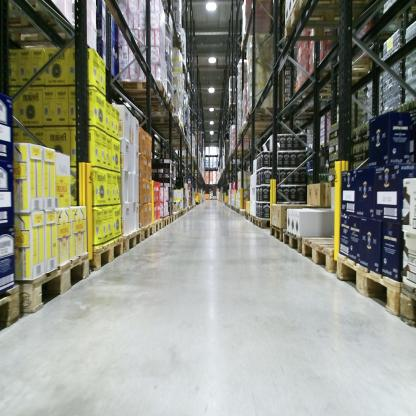pallet: (17, 250, 90, 315), (337, 251, 400, 318), (5, 1, 83, 52), (283, 2, 384, 41), (306, 59, 372, 86), (301, 235, 340, 274), (115, 78, 169, 104), (89, 236, 124, 276), (292, 85, 356, 101), (2, 284, 22, 331), (399, 277, 416, 329), (130, 96, 176, 111), (282, 229, 311, 252), (120, 228, 142, 252), (246, 107, 278, 121), (239, 122, 278, 133), (146, 116, 181, 128), (152, 124, 184, 135), (167, 31, 182, 54), (236, 130, 267, 140), (138, 223, 154, 242), (270, 223, 283, 244), (230, 148, 255, 158), (255, 217, 273, 230), (152, 218, 163, 234), (182, 79, 192, 92), (160, 215, 169, 228), (180, 58, 188, 72), (249, 214, 255, 226), (172, 211, 178, 222), (245, 210, 250, 223), (239, 209, 247, 217), (168, 214, 174, 224), (175, 210, 181, 220), (180, 208, 184, 217)
